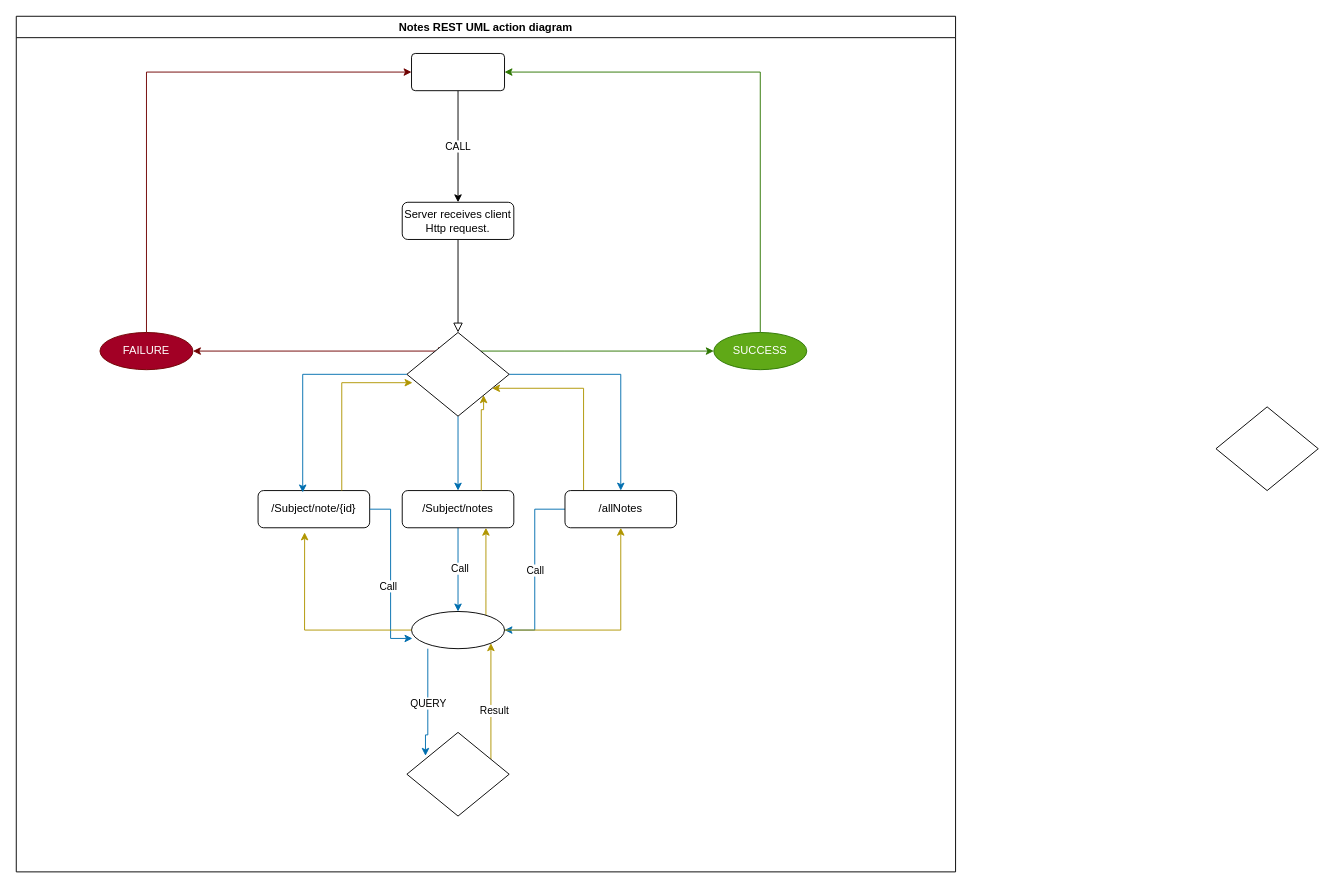
Image size: 1335x888. Some labels were removed from this diagram. The shapes that lost their labels are listed below. From the top down, each one's centre as x and y in pixels, then its label:
At point 458,72: "Client".
At point 457,374: "Router handler".
At point 458,630: "Business Logic".
At point 457,773: "MongoDB".
